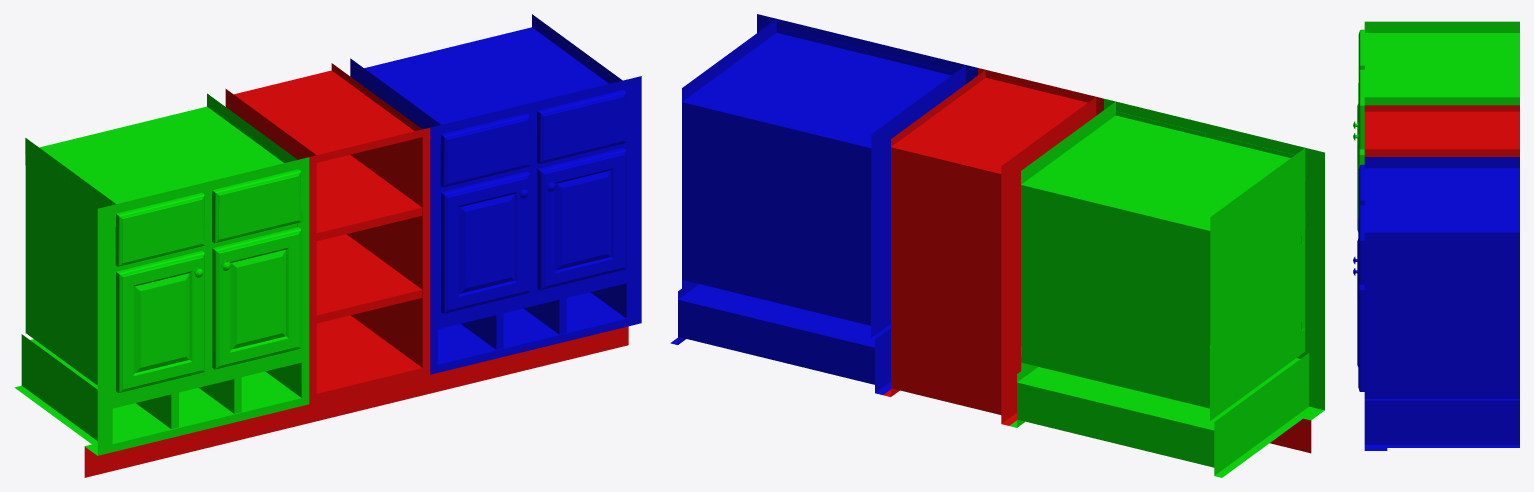
Rendered from bathroomCabinet_1.fbx.
3 views of the same model, side by side, from view 1: azimuth 30°, elevation 25°; view 2: azimuth 150°, elevation 25°; view 3: azimuth 270°, elevation 25° (orthographic). The views are drawn at different scales.
Visible parts, largest first — view 1: cabinet_left, cabinet_center, cabinet_right, cabinet_right_door_right, cabinet_left_door_right, cabinet_right_door_left, cabinet_left_door_left; view 2: cabinet_left, cabinet_right, cabinet_center; view 3: cabinet_right, cabinet_left, cabinet_center, cabinet_right_door_right, cabinet_left_door_right.
Part boxes in pixels (x1,y1,x2,y2): cabinet_left: (14,93,309,455); cabinet_center: (84,63,628,477); cabinet_right: (350,14,641,374); cabinet_right_door_right: (537,148,626,290); cabinet_left_door_right: (212,227,301,369); cabinet_right_door_left: (441,171,529,313); cabinet_left_door_left: (116,251,204,392); cabinet_left: (1009,98,1324,477); cabinet_right: (670,14,977,394); cabinet_center: (883,68,1311,453); cabinet_right: (1358,157,1519,450); cabinet_left: (1358,21,1519,149); cabinet_center: (1364,105,1519,156); cabinet_right_door_right: (1353,258,1364,391); cabinet_left_door_right: (1353,123,1364,231).
Size of the model in its own units: 183 by 89.54 by 56.94.
